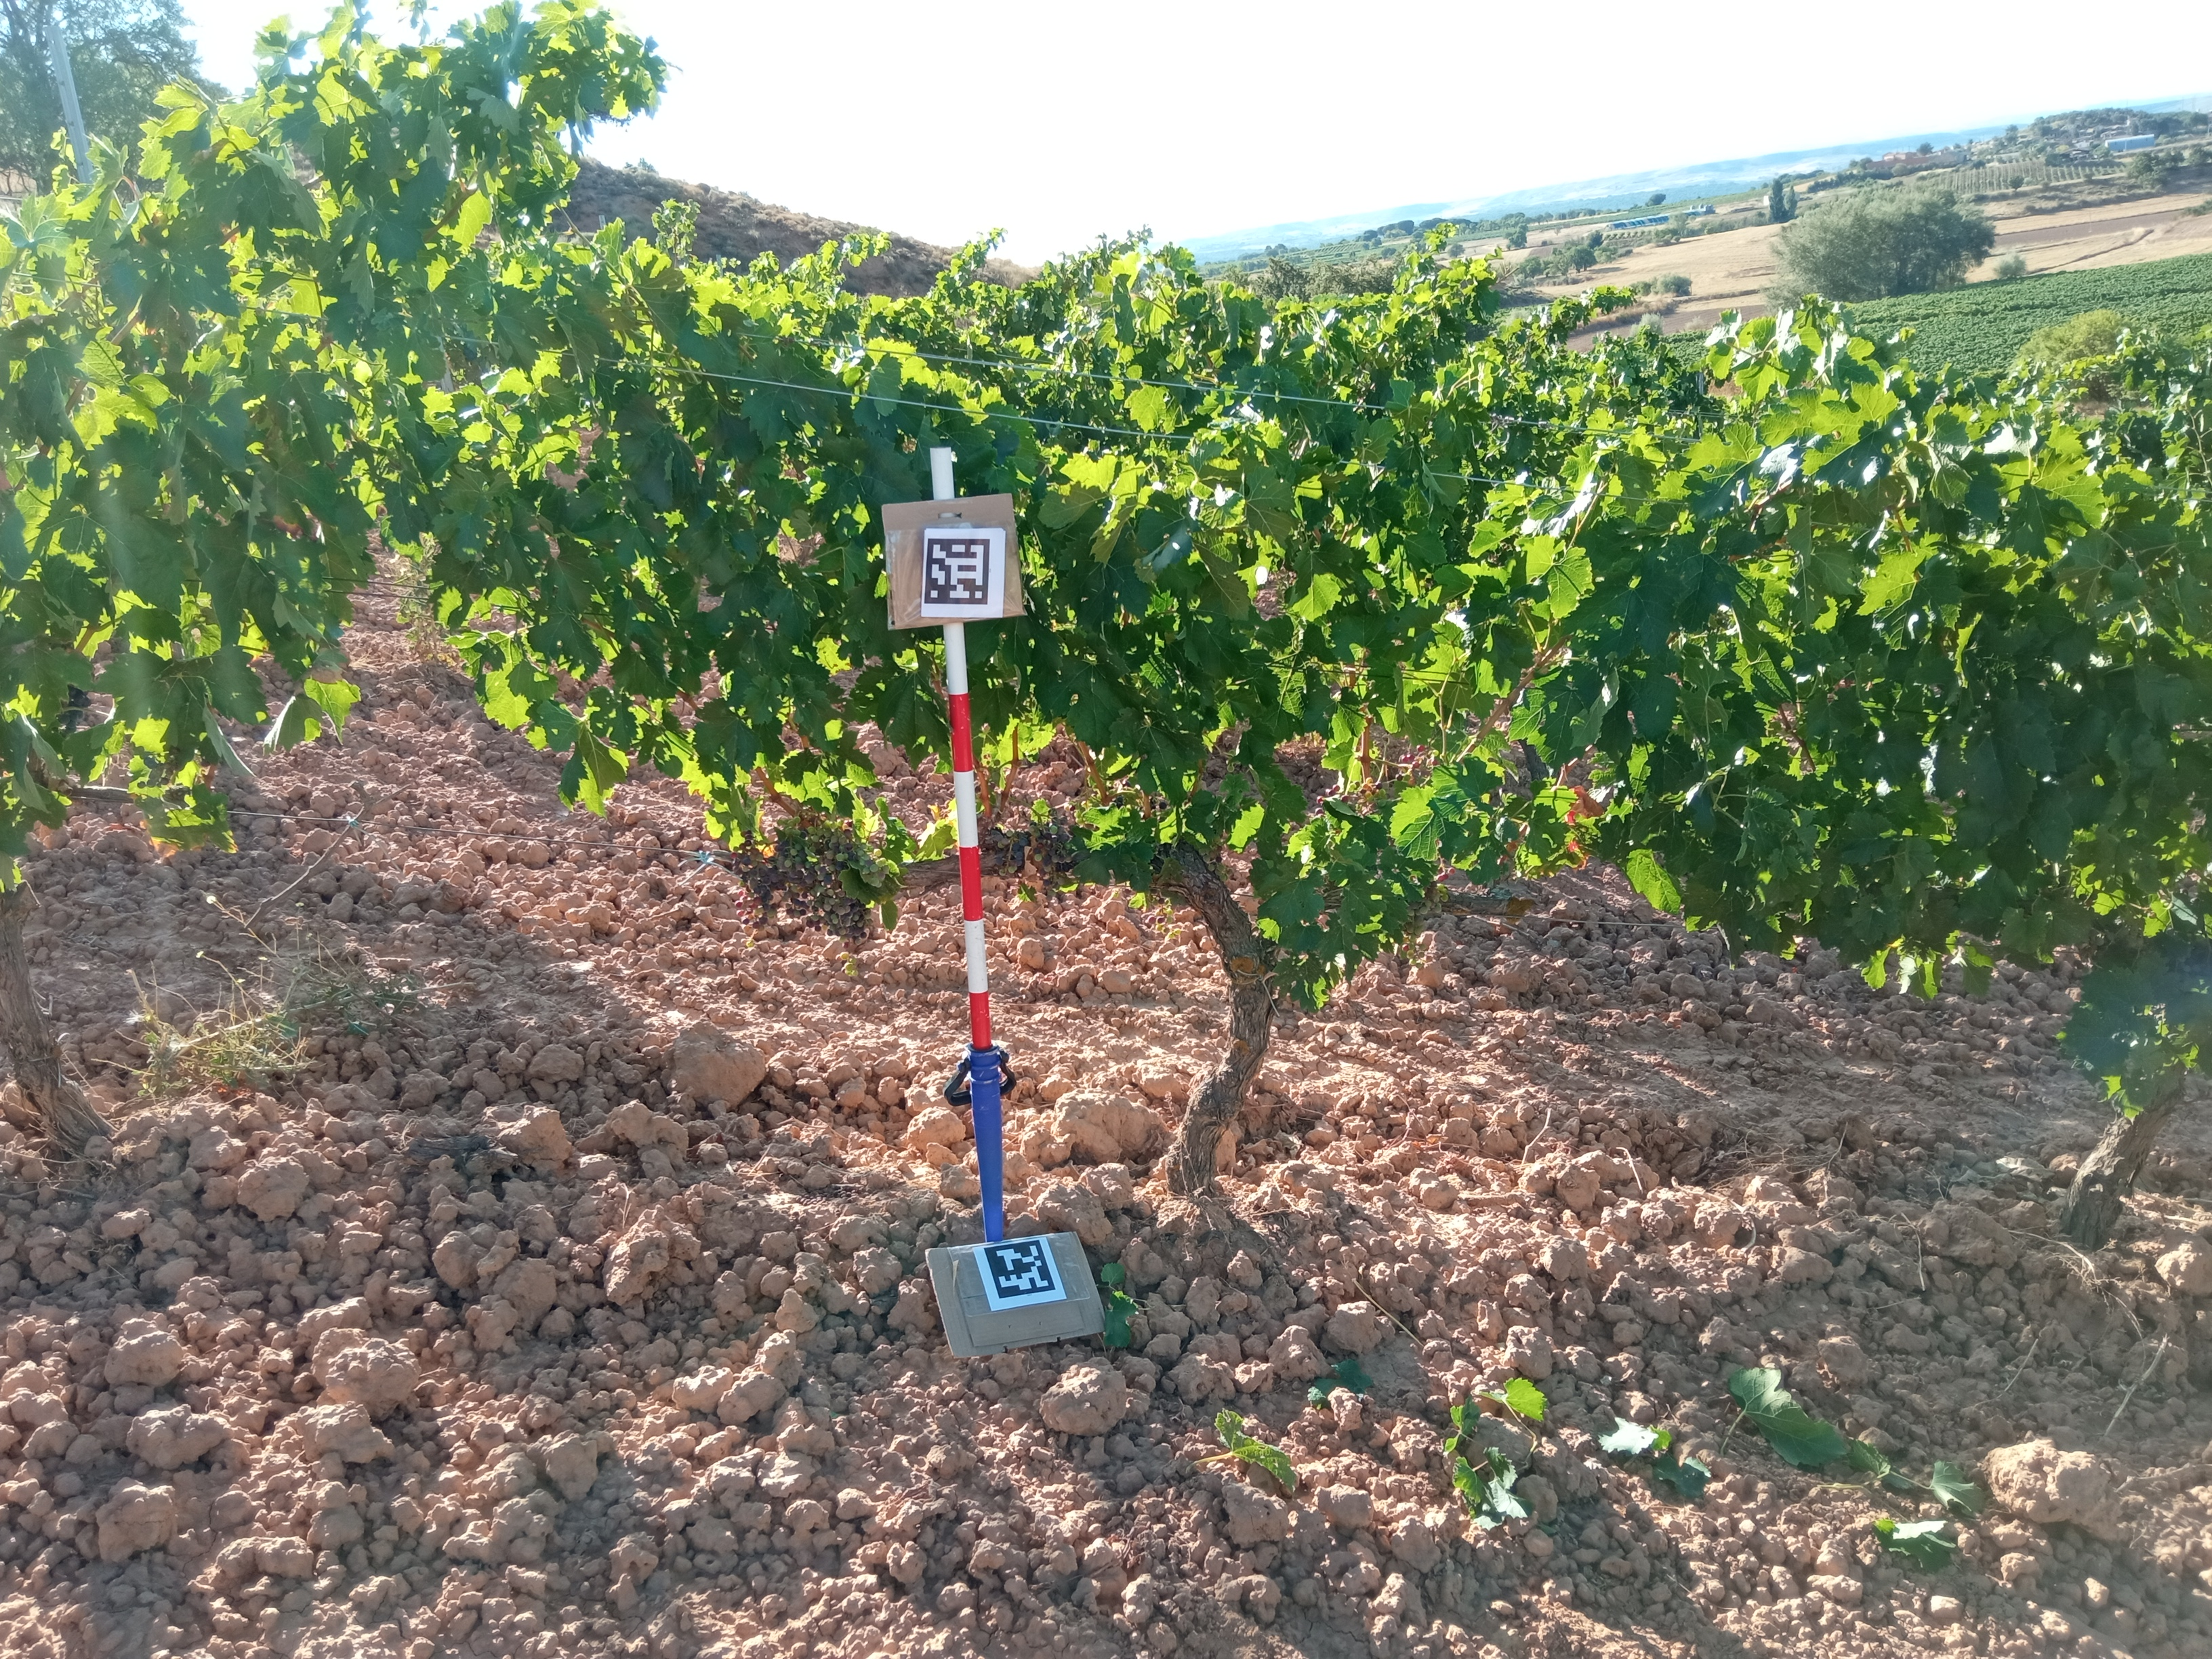grapes: (775, 812, 892, 885), (733, 826, 773, 948), (803, 889, 873, 941), (1305, 767, 1409, 802), (1406, 884, 1451, 964), (1029, 824, 1071, 884), (989, 828, 1026, 878), (61, 687, 94, 732), (1399, 741, 1439, 769)
